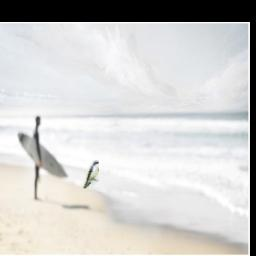Swallow: (83, 161, 99, 189)
